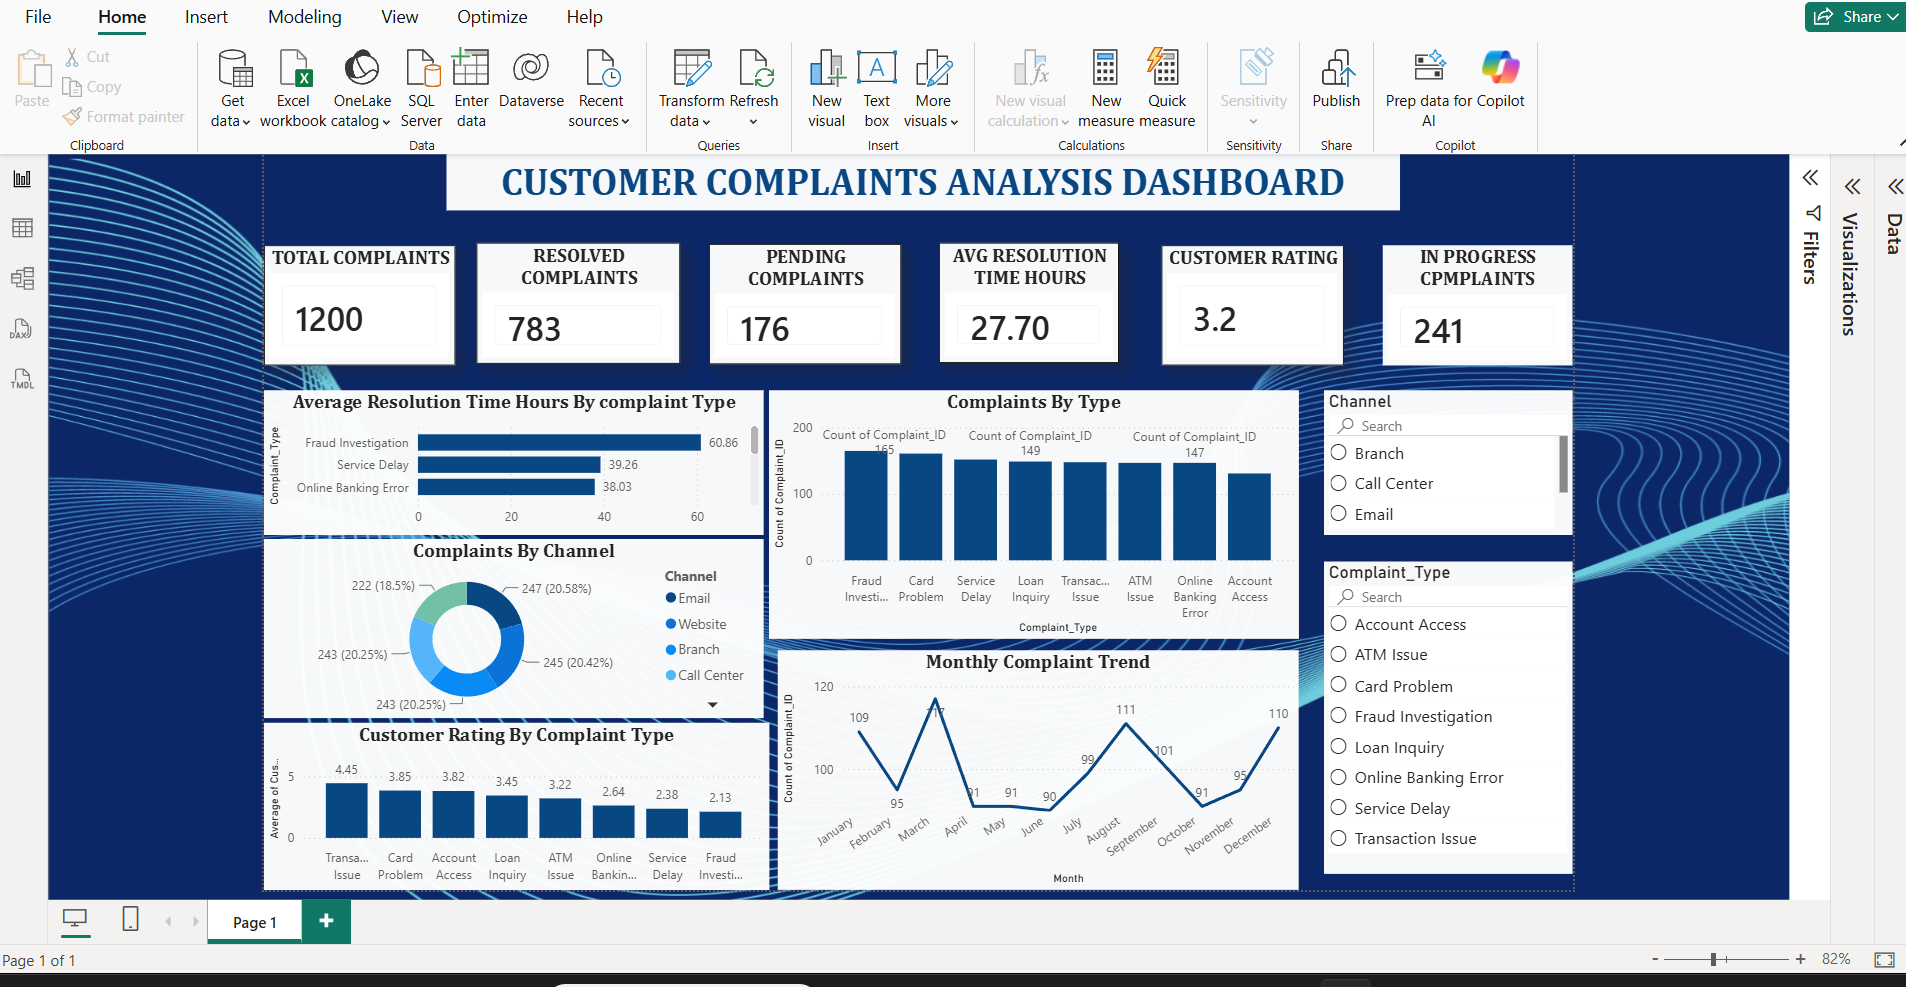

The dashboard page shown, as its layout file describes it:
{"tool":"powerbi","page":{"name":"Page 1","canvas":[1280,720],"ordinal":0},"visuals":[{"type":"cardVisual","title":"RESOLVED COMPLAINTS","fields":{"Data":["CountNonNull(Complaints_Data.Complaint_ID)"]},"box":[207.9,86.8,199.3,118.6],"z":0},{"type":"cardVisual","title":"PENDING COMPLAINTS","fields":{"Data":["CountNonNull(Complaints_Data.Complaint_ID)"]},"box":[435.3,88,188.3,117.4],"z":1000},{"type":"cardVisual","title":"AVG RESOLUTION TIME HOURS","fields":{"Data":["Avg(Complaints_Data.Resolution_Time_Hours)"]},"box":[660.3,86.8,176.1,117.4],"z":2000},{"type":"cardVisual","title":"CUSTOMER RATING","fields":{"Data":["Avg(Complaints_Data.Customer_Rating)"]},"box":[878,89.3,178.5,117.4],"z":3000},{"type":"donutChart","title":"Complaints By Channel","fields":{"Category":["Complaints_Data.Channel"],"Y":["CountNonNull(Complaints_Data.Complaint_ID)"]},"box":[0,376.6,489.1,174.9],"z":4000},{"type":"columnChart","title":"Complaints By Type","fields":{"Category":["Complaints_Data.Complaint_Type"],"Y":["CountNonNull(Complaints_Data.Complaint_ID)"]},"box":[494,231.1,518.5,243.3],"z":5000},{"type":"barChart","title":"Average Resolution Time Hours By complaint Type ","fields":{"Category":["Complaints_Data.Complaint_Type"],"Y":["Avg(Complaints_Data.Resolution_Time_Hours)"]},"box":[0,231.1,489.1,141.8],"z":7000},{"type":"listSlicer","fields":{"Values":["Complaints_Data.Complaint_Type"]},"box":[1037,398.6,243.3,305.7],"z":8000},{"type":"listSlicer","fields":{"Values":["Complaints_Data.Channel"]},"box":[1037,231.1,243.3,141.8],"z":9000},{"type":"columnChart","title":" Customer Rating By Complaint Type","fields":{"Category":["Complaints_Data.Complaint_Type"],"Y":["Avg(Complaints_Data.Customer_Rating)"]},"box":[0,556.4,494,163.9],"z":10000},{"type":"lineChart","title":"Monthly Complaint Trend","fields":{"Category":["Complaints_Data.Complaint_Date.Variation.Date Hierarchy.Year","Complaints_Data.Complaint_Date.Variation.Date Hierarchy.Quarter","Complaints_Data.Complaint_Date.Variation.Date Hierarchy.Month","Complaints_Data.Complaint_Date.Variation.Date Hierarchy.Day"],"Y":["CountNonNull(Complaints_Data.Complaint_ID)"]},"box":[502.6,485.5,509.9,234.8],"z":11000},{"type":"cardVisual","title":"TOTAL COMPLAINTS","fields":{"Data":["CountNonNull(Complaints_Data.Customer_ID)"]},"box":[0,89.3,187.1,117.4],"z":12000},{"type":"textbox","box":[178.8,0,932.5,55],"z":13000},{"type":"cardVisual","title":"IN PROGRESS CPMPLAINTS","fields":{"Data":["CountNonNull(Complaints_Data.Complaint_ID)"]},"box":[1094.4,89.3,185.9,117.4],"z":14000}]}

Visuals, with their boxes on the page's 1280x720 design canvas (x1, y1, x2, y2). These are canvas units, not pixel positions in the 1906x987 screenshot, which may show the page scaled, cropped or inside an application window:
"RESOLVED COMPLAINTS" cardVisual: (208,87,407,205)
"PENDING COMPLAINTS" cardVisual: (435,88,624,205)
"AVG RESOLUTION TIME HOURS" cardVisual: (660,87,836,204)
"CUSTOMER RATING" cardVisual: (878,89,1056,207)
"Complaints By Channel" donutChart: (0,377,489,552)
"Complaints By Type" columnChart: (494,231,1012,474)
"Average Resolution Time Hours By complaint Type " barChart: (0,231,489,373)
listSlicer - Complaints_Data.Complaint_Type: (1037,399,1280,704)
listSlicer - Complaints_Data.Channel: (1037,231,1280,373)
" Customer Rating By Complaint Type" columnChart: (0,556,494,720)
"Monthly Complaint Trend" lineChart: (503,486,1012,720)
"TOTAL COMPLAINTS" cardVisual: (0,89,187,207)
textbox: (179,0,1111,55)
"IN PROGRESS CPMPLAINTS" cardVisual: (1094,89,1280,207)
